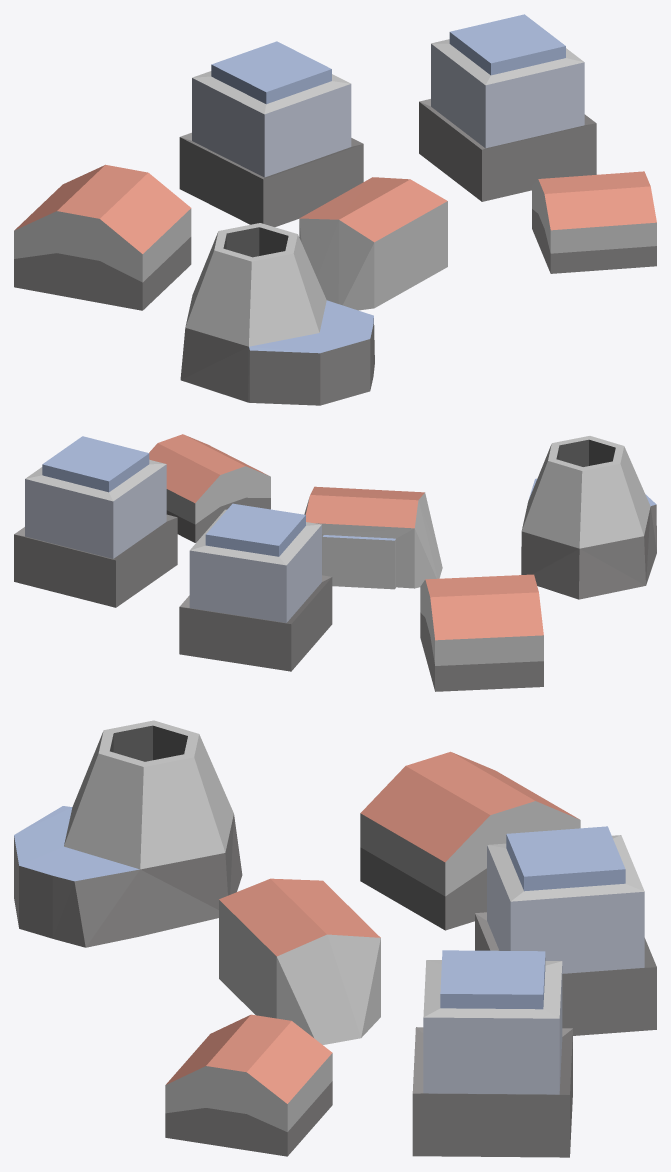
Rendered from beta02_01_s.dae.
3 views of the same model, one above another, from view 1: azimuth 30°, elevation 25°; view 2: azimuth 150°, elevation 25°; view 3: azimuth 270°, elevation 25° (orthographic). The views are drawn at different scales.
Visible parts, largest first — view 1: Cube; view 2: Cube; view 3: Cube.
Part boxes in pixels (x1=…): Cube: x1=14, y1=14, x2=656, y2=405; Cube: x1=14, y1=434, x2=656, y2=691; Cube: x1=14, y1=720, x2=656, y2=1157.
Bounding box in the file's own units: 1.7 × 1.43 × 0.3876.
